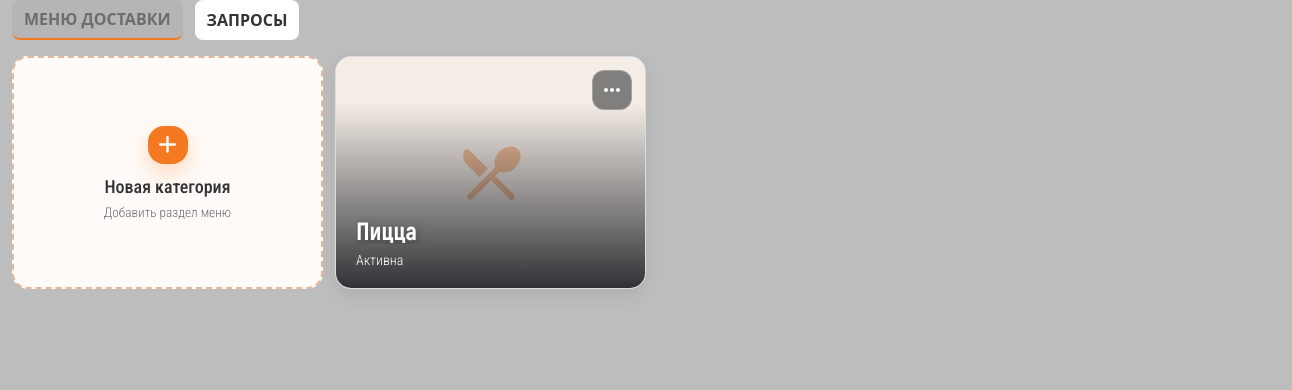
Delivery and Cash access › switches delivery content immediately and preserves its tabs
This screenshot has width=1292, height=390.
Expected: the text "Пицца" is shown, [356,215,417,245]
Step 1. Click the text "Запросы" → [247, 20], box [195,0,299,40]
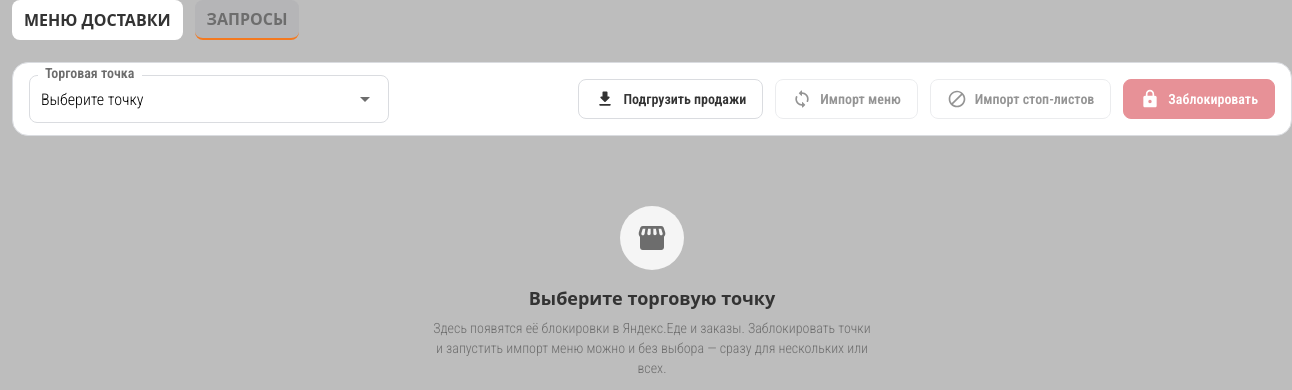
Expected: the text "Меню доставки" is shown, [12,0,183,40]
Result: the heading "Выберите торговую точку" is shown at [529,286,775,310]
